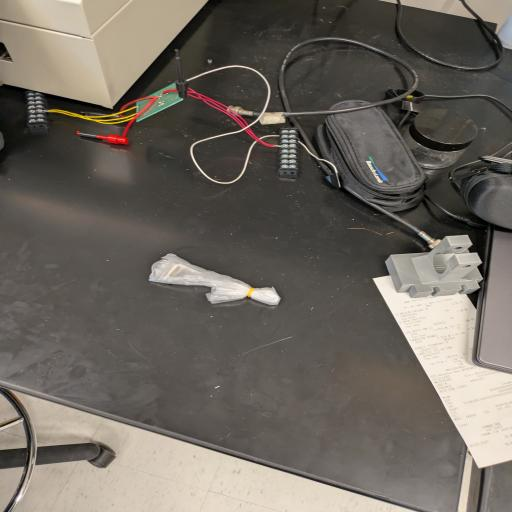rubberband: (148, 251, 283, 308)
